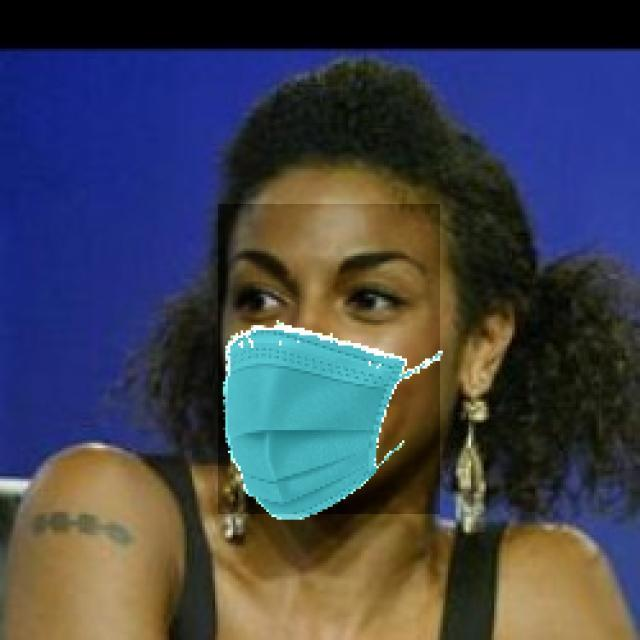surgical: (218, 203, 440, 514)
